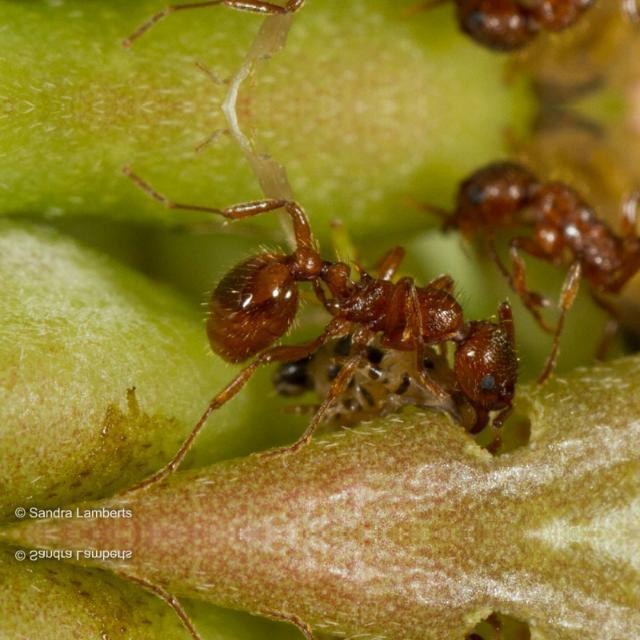Myrmica: (234, 188, 526, 454), (423, 140, 639, 302), (423, 0, 639, 70)
